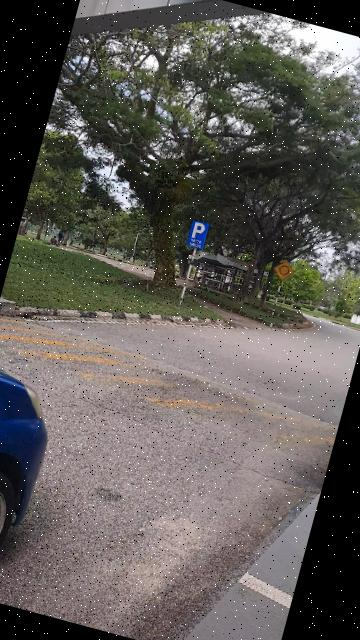car: (1, 351, 69, 605)
